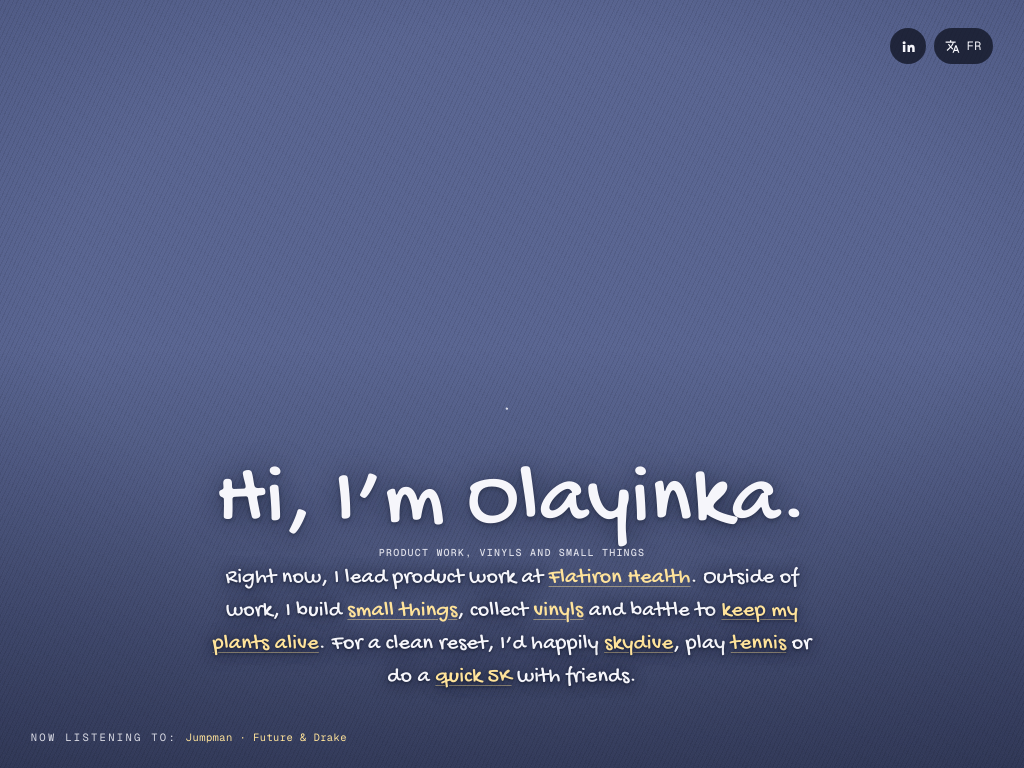
Home › switches the copy to French and back
Click the button with aria-label "Translate to French" at coordinates (964, 46), box top-left (934, 28), bottom-right (993, 64)
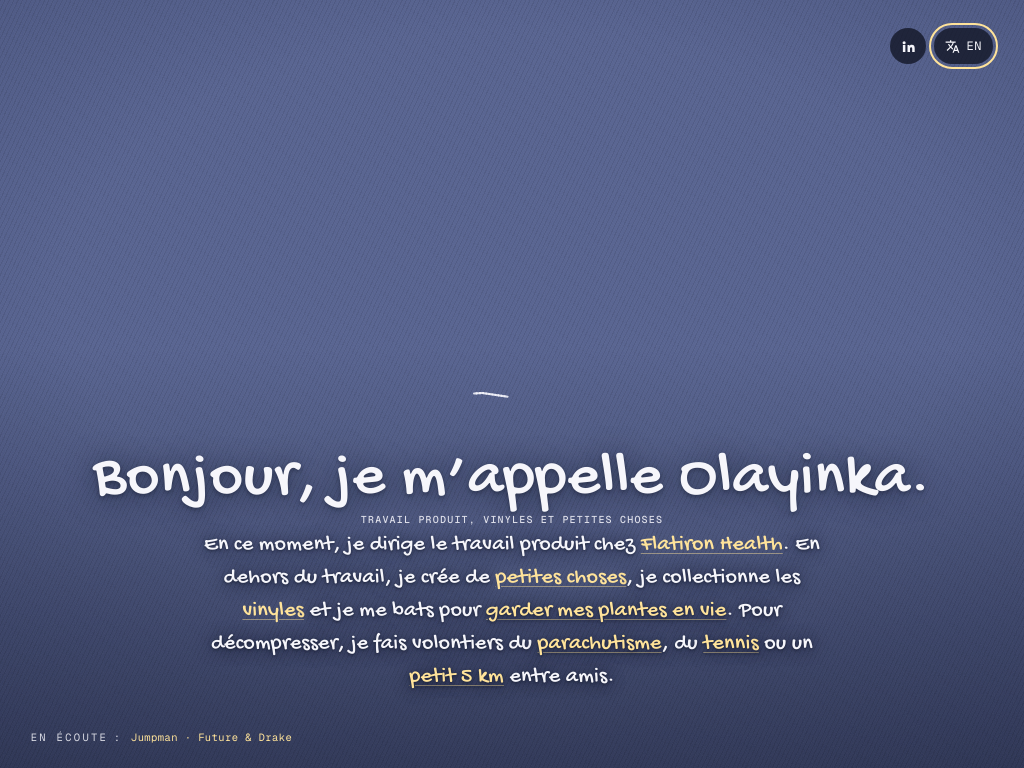
Now the heading "Bonjour, je m’appelle Olayinka." is shown, box top-left (93, 450), bottom-right (931, 511)
Click the button with aria-label "Traduire en anglais" at coordinates (964, 46), box top-left (934, 28), bottom-right (993, 64)
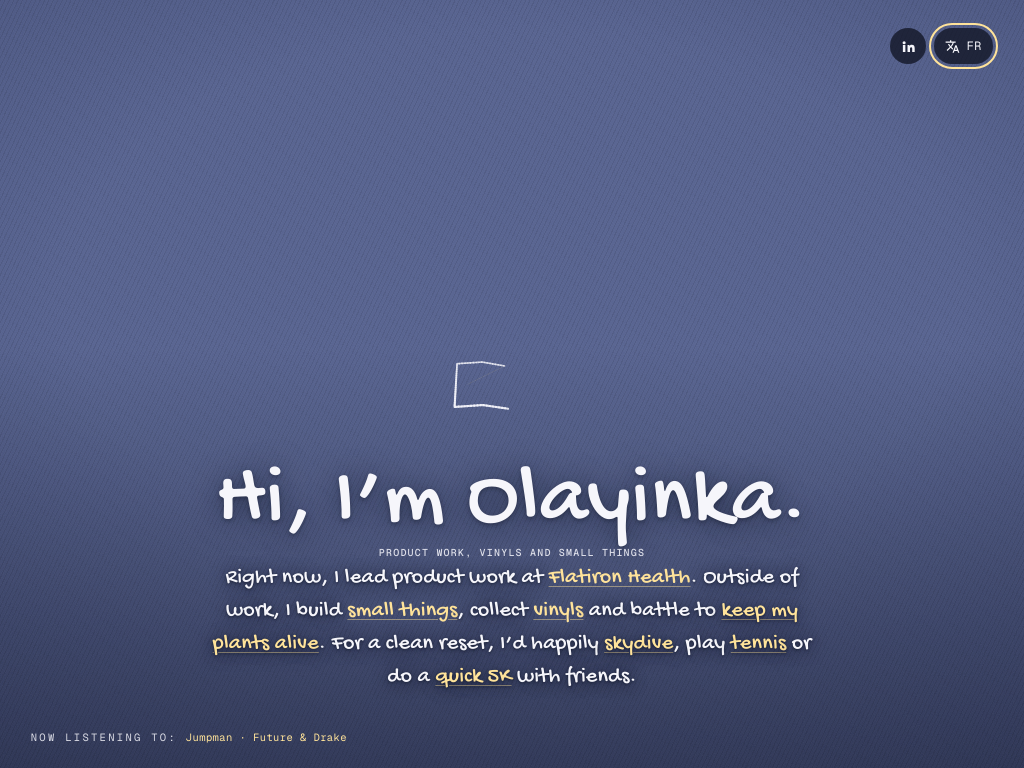
Now the heading "Hi, I’m Olayinka." is shown, box top-left (216, 462), bottom-right (808, 544)
